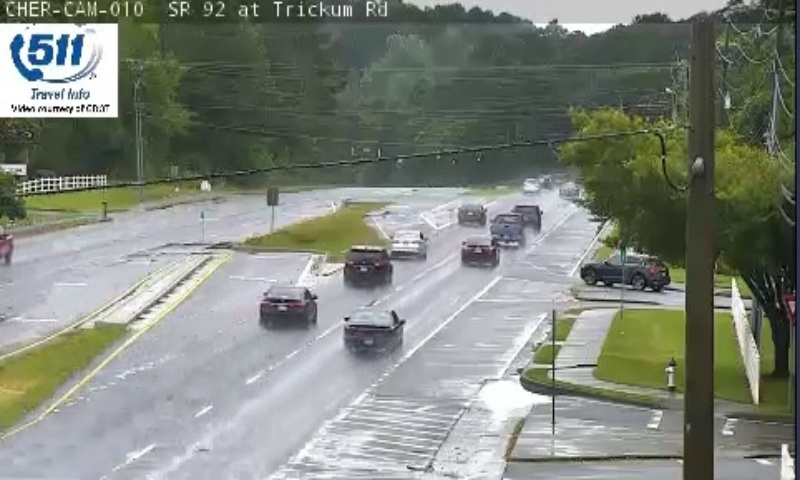car: (343, 306, 401, 351), (260, 285, 315, 323), (343, 245, 391, 283), (461, 234, 497, 265), (388, 229, 426, 258), (491, 214, 522, 243), (512, 205, 541, 229), (456, 202, 484, 225)
